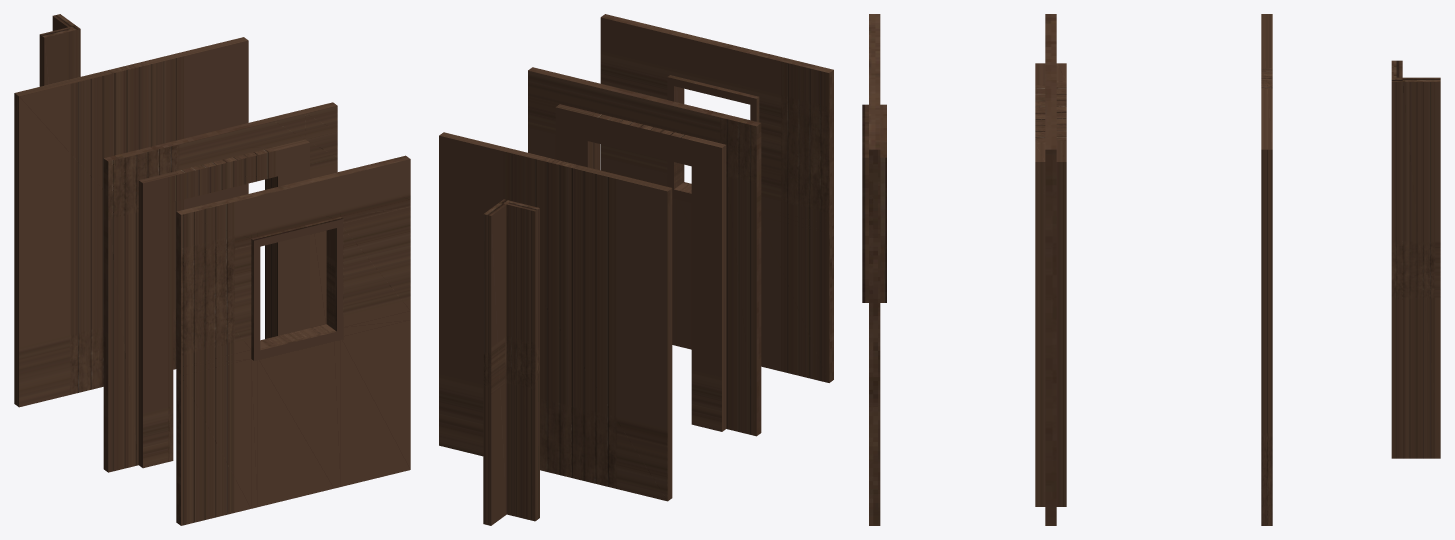
The model's file is PSX darkwood walls.fbx.
3 views of the same model, side by side, from view 1: azimuth 30°, elevation 25°; view 2: azimuth 150°, elevation 25°; view 3: azimuth 270°, elevation 25° (orthographic). The views are drawn at different scales.
Parts seen in each view (by area): view 1: window, wall, door, edge; view 2: wall, window, door, edge; view 3: edge, door, window, wall.
Boxes of the visible parts, bbox=[...] form: window: bbox=[176, 155, 410, 525]; wall: bbox=[14, 37, 248, 407]; door: bbox=[103, 102, 337, 472]; edge: bbox=[39, 14, 80, 86]; wall: bbox=[439, 132, 672, 501]; window: bbox=[600, 14, 833, 382]; door: bbox=[528, 67, 761, 436]; edge: bbox=[483, 199, 539, 525]; edge: bbox=[1391, 60, 1440, 458]; door: bbox=[1035, 14, 1066, 525]; window: bbox=[862, 14, 886, 525]; wall: bbox=[1261, 14, 1272, 525].
Bounding box in the file's own units: 386 × 500 × 696.
Materials: 1 (1 with a texture image).
